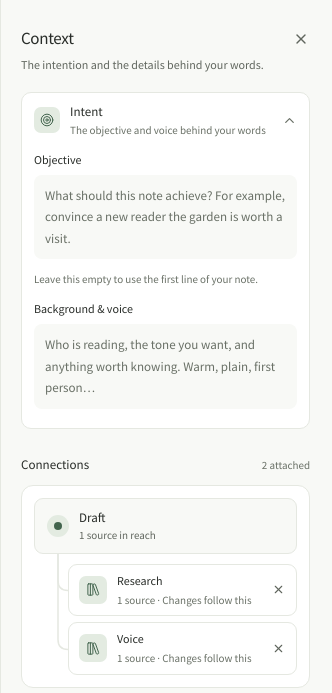
Test: explicit attached-context search › prioritizes named packages and retrieves their shared sources once while keeping direct editing raw
Expected: the button with aria-label "Manage Research" is shown, [69,565,263,615]
Click the button with aria-label "Manage Voice": click(166, 648) [69,623,263,674]
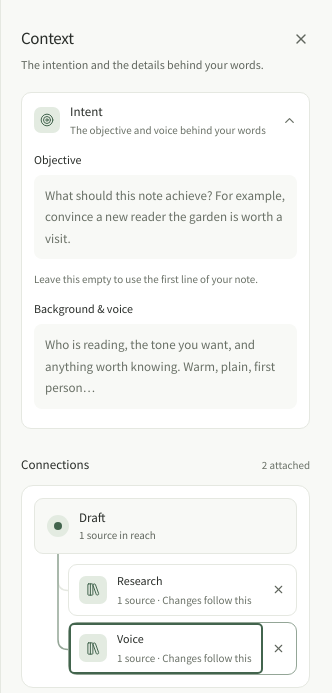
Click the button named "Detach Voice": click(278, 648) [263,634,293,664]
(page scrolled)
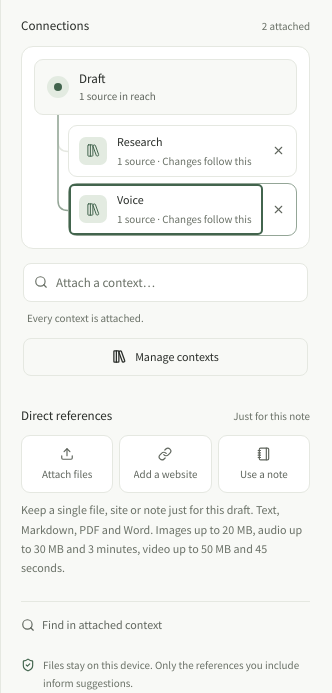
Click the heading "Find in attached context": click(92, 625) [21,616,162,634]
(page scrolled)
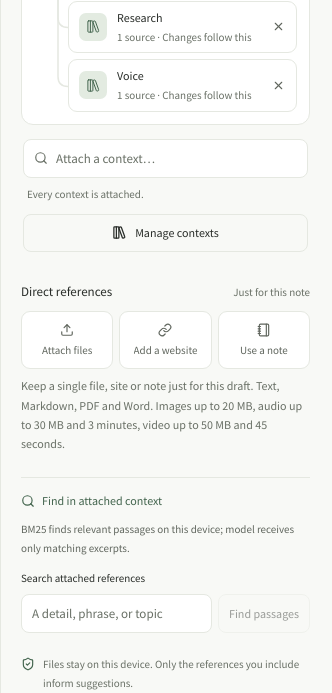
In the search field labelled "Search attached references": (116, 614) [21,594,212,633], type "blue lavender"
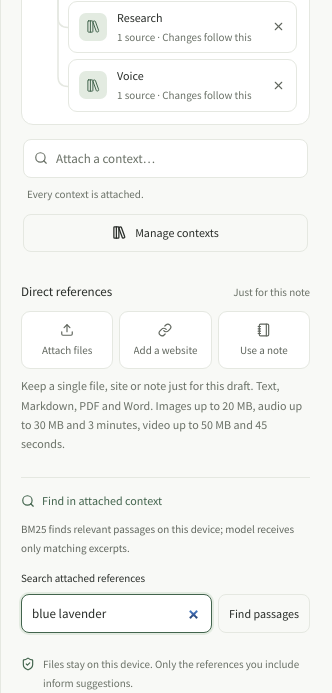
Click the button "Find passages": click(264, 614) [218,594,310,633]
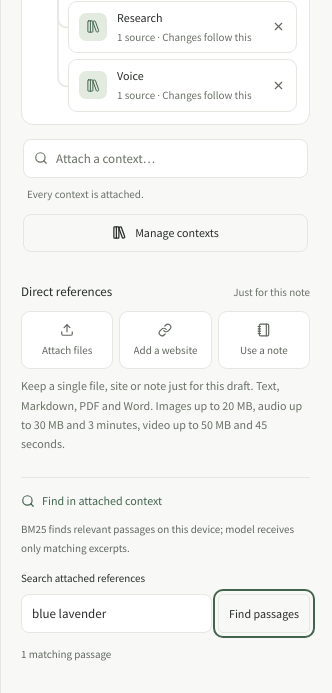
Expected: the text "1 matching passage" is shown, [21,647,111,661]
